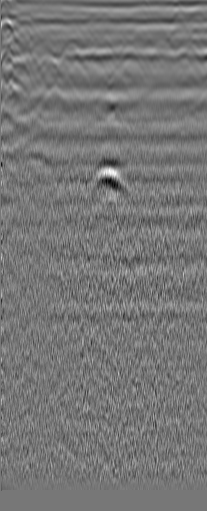오수: (29, 33, 49, 53)
우수: (176, 40, 196, 60)
